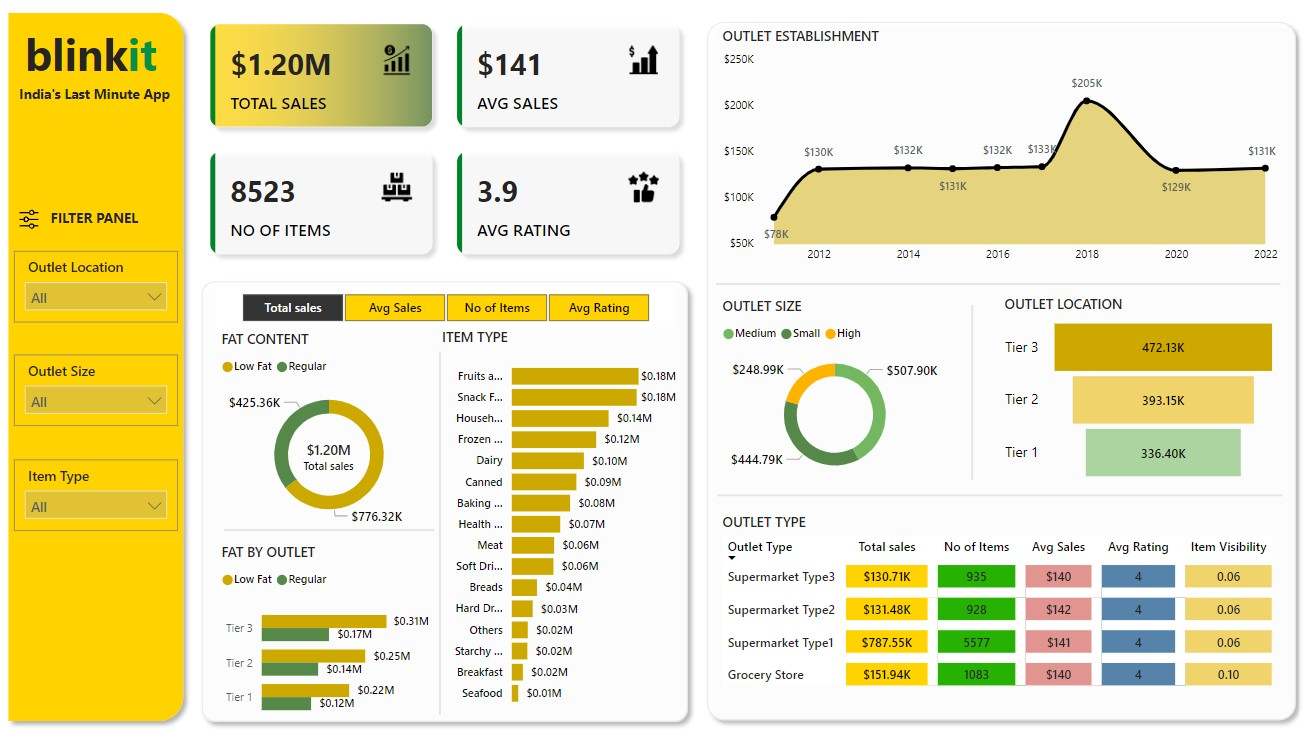

What the dashboard file says about the page in this screenshot:
{"tool":"powerbi","page":{"name":"Page 1","canvas":[1280,720],"ordinal":0},"visuals":[{"type":"shape","box":[0,6.9,189.8,712.5],"z":0},{"type":"textbox","box":[20.7,21.6,154.4,73.3],"z":1000},{"type":"textbox","box":[14.7,80.2,167.3,30.2],"z":2000},{"type":"cardVisual","fields":{"Data":["BlinkIT Grocery Data.Total sales","BlinkIT Grocery Data.Avg Sales","BlinkIT Grocery Data.No of Items","BlinkIT Grocery Data.Avg Rating"]},"box":[190,10,494.5,261.8],"z":3000},{"type":"shape","box":[190,270,494.5,450],"z":4000},{"type":"donutChart","title":" FAT CONTENT","fields":{"Y":["BlinkIT Grocery Data.Total sales"],"Category":["BlinkIT Grocery Data.Item Fat Content"]},"box":[212.7,326.4,220,200.9],"z":5000},{"type":"slicer","fields":{"Values":["Metrics.Metrics"]},"box":[212.7,285.5,448.2,40],"z":6000},{"type":"cardVisual","fields":{"Data":["BlinkIT Grocery Data.Total sales"]},"box":[274.8,418,96.5,59.9],"z":7000},{"type":"clusteredBarChart","title":"FAT BY OUTLET","fields":{"Y":["BlinkIT Grocery Data.Total sales"],"Category":["BlinkIT Grocery Data.Outlet Location Type"],"Series":["BlinkIT Grocery Data.Item Fat Content"]},"box":[212.7,535.5,212.7,184.5],"z":8000},{"type":"shape","box":[220,511.8,206.4,23.6],"z":9000},{"type":"shape","box":[419.1,349.1,26.4,356.4],"z":10000},{"type":"clusteredBarChart","title":"ITEM TYPE","fields":{"Y":["BlinkIT Grocery Data.Total sales"],"Category":["BlinkIT Grocery Data.Item Type"]},"box":[430,325.5,239.1,380],"z":11000},{"type":"shape","box":[684.9,16.4,595.1,703],"z":12000},{"type":"lineChart","title":"OUTLET ESTABLISHMENT","fields":{"Y":["BlinkIT Grocery Data.Total sales"],"Category":["BlinkIT Grocery Data.Outlet Establishment Year"]},"box":[703.8,29.3,553.7,240.6],"z":13000},{"type":"shape","box":[703.6,270,553.6,23.6],"z":14000},{"type":"donutChart","title":"OUTLET SIZE","fields":{"Y":["BlinkIT Grocery Data.Total sales"],"Category":["BlinkIT Grocery Data.Outlet Size"]},"box":[703.8,294.1,229.4,187.2],"z":15000},{"type":"funnel","title":"OUTLET LOCATION","fields":{"Y":["Sum(BlinkIT Grocery Data.Sales)"],"Category":["BlinkIT Grocery Data.Outlet Location Type"]},"box":[980.7,293.3,276.9,188],"z":16000},{"type":"shape","box":[941.9,302.7,25.9,171.6],"z":17000},{"type":"shape","box":[703.8,477.8,553.7,23.3],"z":18000},{"type":"pivotTable","title":"OUTLET TYPE","fields":{"Rows":["BlinkIT Grocery Data.Outlet Type"],"Values":["BlinkIT Grocery Data.Total sales","BlinkIT Grocery Data.No of Items","BlinkIT Grocery Data.Avg Sales","BlinkIT Grocery Data.Avg Rating","Avg(BlinkIT Grocery Data.Item Visibility)"]},"box":[703.8,505.4,553.7,188],"z":19000},{"type":"slicer","fields":{"Values":["BlinkIT Grocery Data.Outlet Location Type"]},"box":[14.7,250.1,160.4,69.9],"z":20000},{"type":"slicer","fields":{"Values":["BlinkIT Grocery Data.Outlet Size"]},"box":[14.7,351.1,160.4,69.9],"z":21000},{"type":"slicer","fields":{"Values":["BlinkIT Grocery Data.Item Type"]},"box":[14.7,454.6,160.4,69.9],"z":22000},{"type":"textbox","box":[45.7,203.6,110.4,28.5],"z":23000},{"type":"image","box":[14.7,202.7,29.3,31.9],"z":24000}]}

Visuals, with their boxes in screenshot pixels (x1, y1, x2, y2), scaled from the page's 1280x720 canvas onto the 1303x729 screenshot:
shape: [0,7,193,728]
textbox: [21,22,178,96]
textbox: [15,81,185,112]
cardVisual - BlinkIT Grocery Data.Total sales x BlinkIT Grocery Data.Avg Sales: [193,10,697,275]
shape: [193,273,697,728]
" FAT CONTENT" donutChart: [217,330,440,534]
slicer - Metrics.Metrics: [217,289,673,330]
cardVisual - BlinkIT Grocery Data.Total sales: [280,423,378,484]
"FAT BY OUTLET" clusteredBarChart: [217,542,433,728]
shape: [224,518,434,542]
shape: [427,353,454,714]
"ITEM TYPE" clusteredBarChart: [438,330,681,714]
shape: [697,17,1302,728]
"OUTLET ESTABLISHMENT" lineChart: [716,30,1280,273]
shape: [716,273,1280,297]
"OUTLET SIZE" donutChart: [716,298,950,487]
"OUTLET LOCATION" funnel: [998,297,1280,487]
shape: [959,306,985,480]
shape: [716,484,1280,507]
"OUTLET TYPE" pivotTable: [716,512,1280,702]
slicer - BlinkIT Grocery Data.Outlet Location Type: [15,253,178,324]
slicer - BlinkIT Grocery Data.Outlet Size: [15,355,178,426]
slicer - BlinkIT Grocery Data.Item Type: [15,460,178,531]
textbox: [47,206,159,235]
image: [15,205,45,238]
